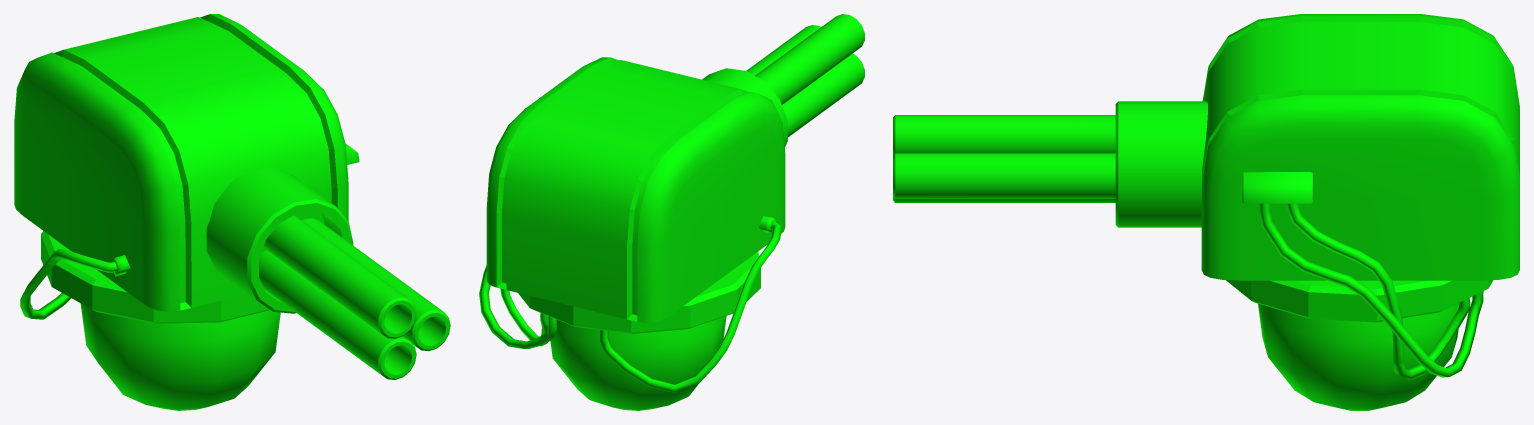
File: Turret01.FBX
The picture shows the model from 3 angles, left to right: view 1: azimuth 30°, elevation 25°; view 2: azimuth 150°, elevation 25°; view 3: azimuth 270°, elevation 25°; orthographic projection. The views are drawn at different scales.
Parts seen in each view (by area): view 1: Turret01, Muzzle02, Muzzle01, Muzzle03; view 2: Turret01, Muzzle02, Muzzle01, Muzzle03; view 3: Turret01, Muzzle03, Muzzle02, Muzzle01.
Boxes of the visible parts, x1,y1,x2,y2 form: Turret01: (14, 14, 359, 410); Muzzle02: (263, 215, 416, 338); Muzzle01: (259, 250, 416, 379); Muzzle03: (302, 218, 450, 351); Turret01: (479, 57, 787, 410); Muzzle02: (755, 14, 864, 104); Muzzle01: (782, 53, 864, 137); Muzzle03: (746, 25, 820, 75); Turret01: (1115, 14, 1519, 410); Muzzle03: (893, 153, 1115, 198); Muzzle02: (893, 115, 1115, 155); Muzzle01: (893, 197, 1115, 202).
Bounding box in the file's own units: 684 × 775 × 1277.
